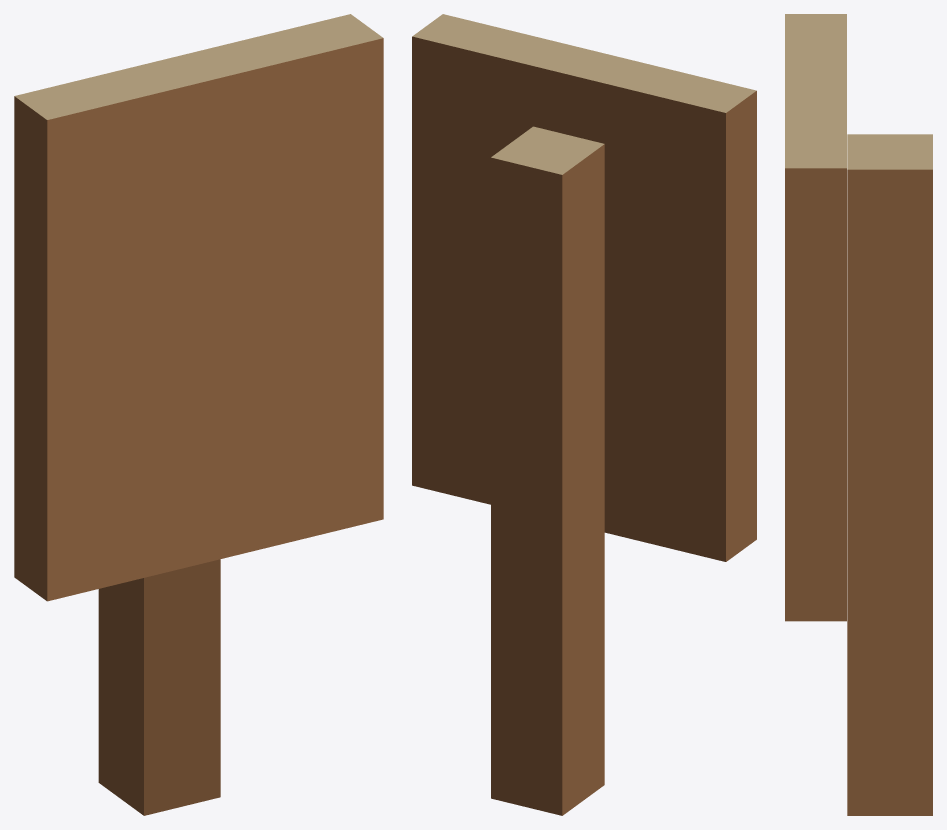
The model's file is TB_D_Prop_Sign_B.FBX.
3 views of the same model, side by side, from view 1: azimuth 30°, elevation 25°; view 2: azimuth 150°, elevation 25°; view 3: azimuth 270°, elevation 25° (orthographic). The views are drawn at different scales.
Visible parts, largest first — view 1: TB_D_Prop_Sign_B; view 2: TB_D_Prop_Sign_B; view 3: TB_D_Prop_Sign_B.
Part boxes in pixels (box(x1,y1,x2,y2)): TB_D_Prop_Sign_B: box(14, 14, 383, 815); TB_D_Prop_Sign_B: box(412, 14, 756, 815); TB_D_Prop_Sign_B: box(785, 14, 932, 815).
Bounding box in the file's own units: 0.7306 × 1.56 × 0.2952.
